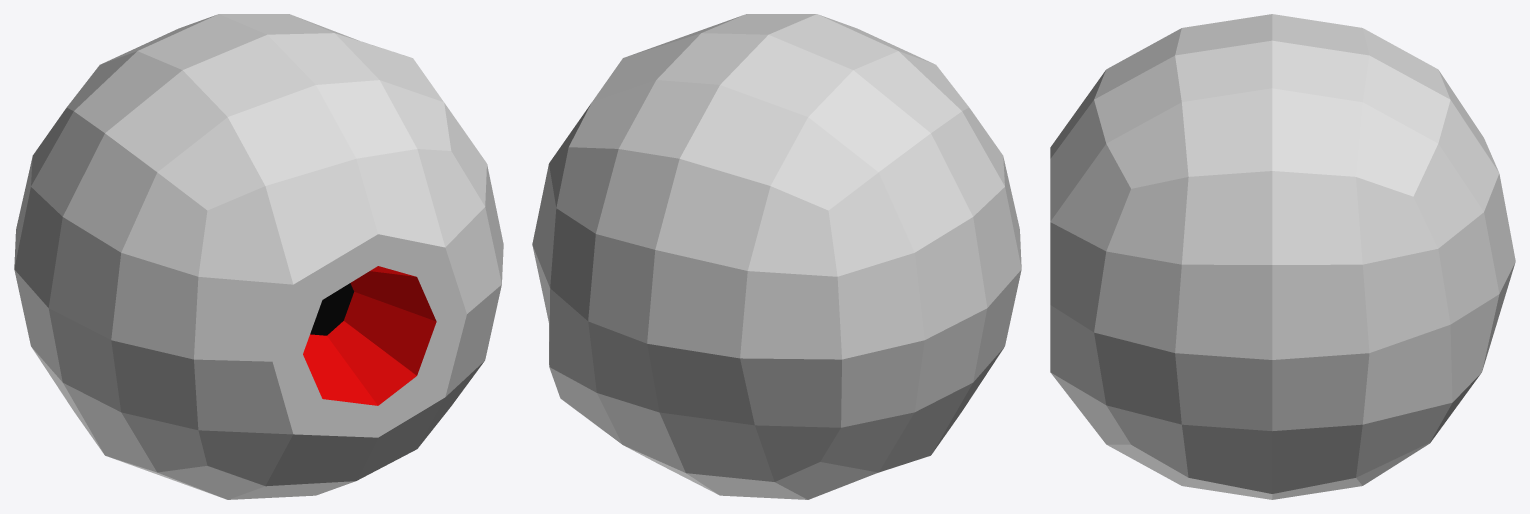
File: Eye_1.fbx
3 views of the same model, side by side, from view 1: azimuth 30°, elevation 25°; view 2: azimuth 150°, elevation 25°; view 3: azimuth 270°, elevation 25° (orthographic).
Parts seen in each view (by area): view 1: pCube1; view 2: pCube1; view 3: pCube1.
Boxes of the visible parts, x1,y1,x2,y2 form: pCube1: [14, 14, 503, 499]; pCube1: [532, 14, 1021, 499]; pCube1: [1050, 14, 1515, 499].
Size of the model in its own units: 54.02 by 54.02 by 51.65.
